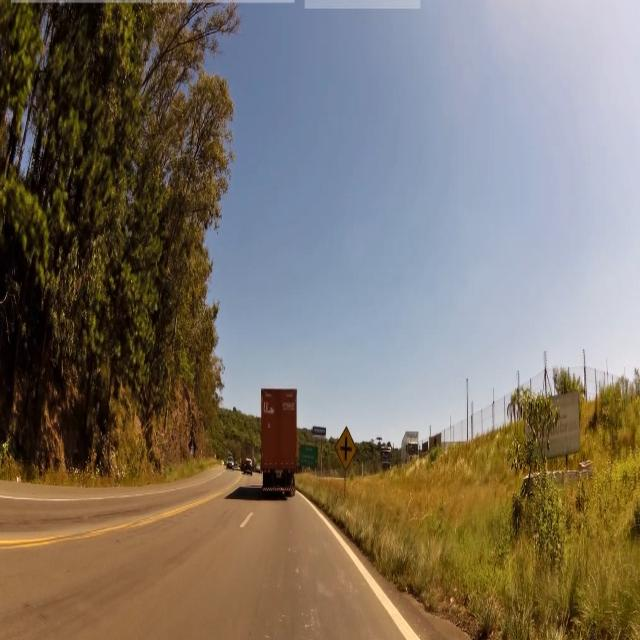A-6: (335, 427, 356, 471)
